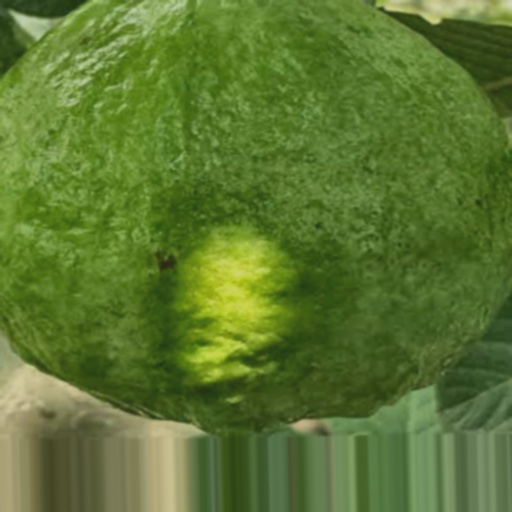guava: (81, 106, 475, 475)
